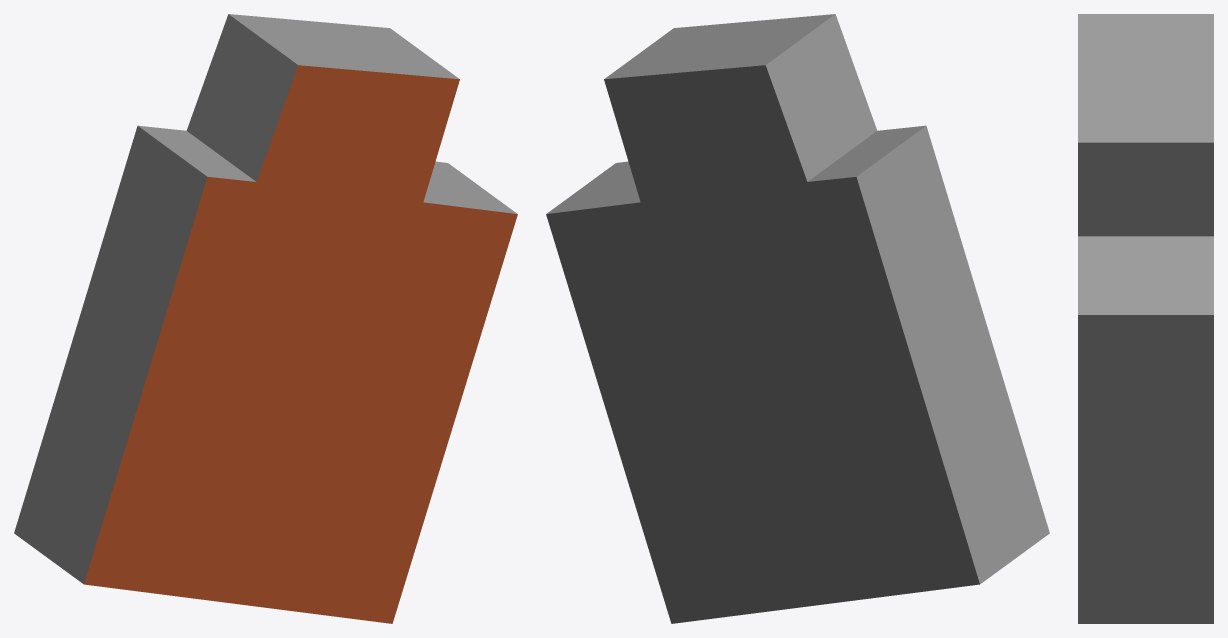
Rendered from construction_3535_assumed_A_Casa_h6m.obj.
The picture shows the model from 3 angles, left to right: view 1: azimuth 30°, elevation 25°; view 2: azimuth 150°, elevation 25°; view 3: azimuth 270°, elevation 25°; orthographic projection. The views are drawn at different scales.
Parts seen in each view (by area): view 1: construction_3535_assumed_A_Casa; view 2: construction_3535_assumed_A_Casa; view 3: construction_3535_assumed_A_Casa.
Boxes of the visible parts, x1,y1,x2,y2 form: construction_3535_assumed_A_Casa: (14, 14, 517, 623); construction_3535_assumed_A_Casa: (546, 14, 1049, 623); construction_3535_assumed_A_Casa: (1078, 14, 1213, 623).
Bounding box in the file's own units: 21.51 × 27.55 × 6.
